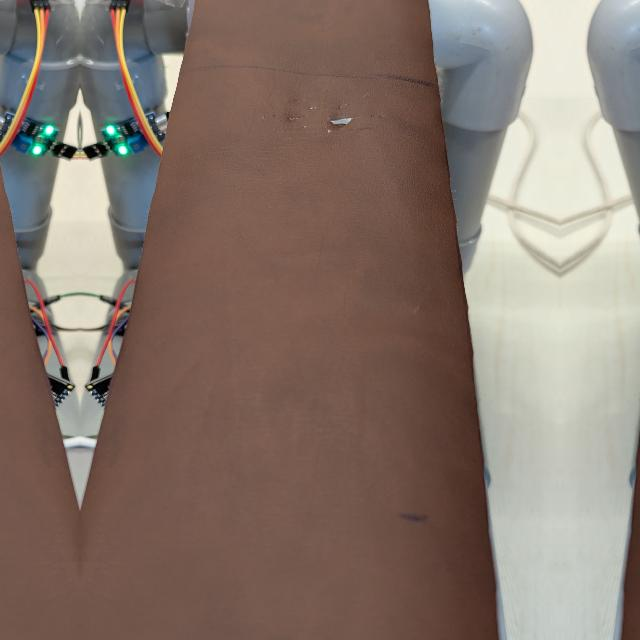belt_crack: (267, 68, 401, 143)
